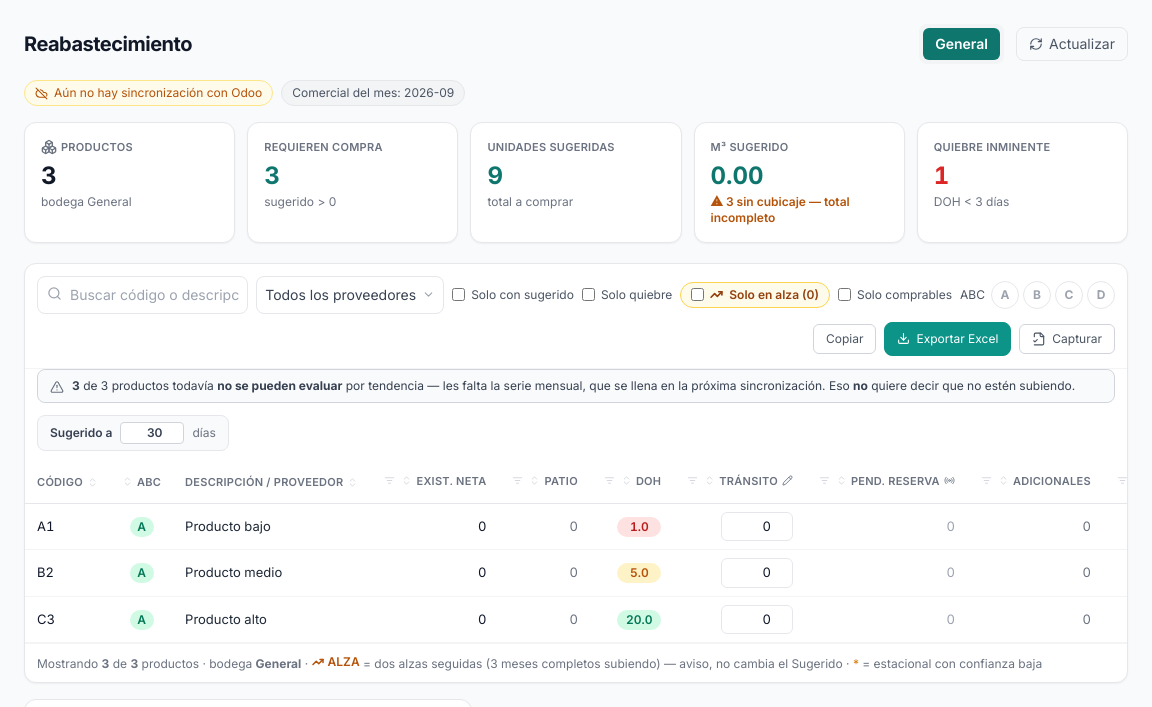
Test: el filtro DOH ≤ 5 deja solo A1 y B2, y limpiar lo devuelve todo — sin disparar el orden
The image size is (1152, 707).
Expected: the text "A1" is shown, [25,503,110,550]
Expected: the text "C3" is shown, [25,596,110,643]
Click the 3rd button titled "Filtrar esta columna" at (609, 481), box [602,473,617,488]
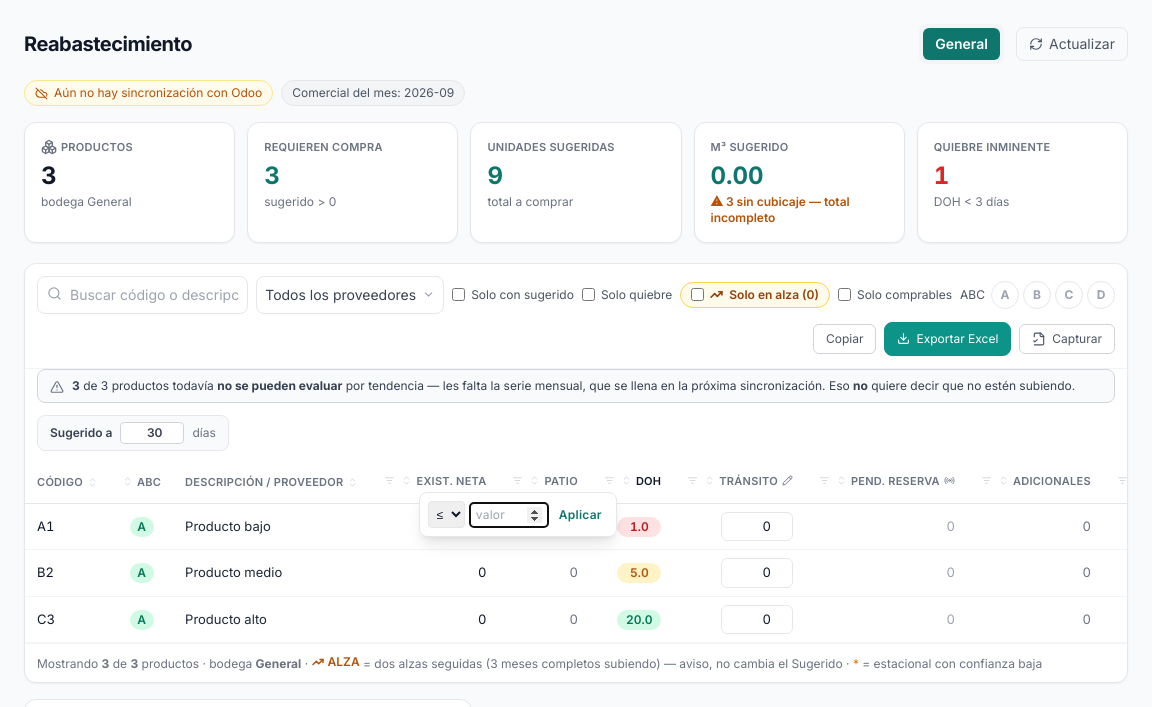
Type "5" into the number field with placeholder "valor" at (509, 515), box [469,502,549,528]
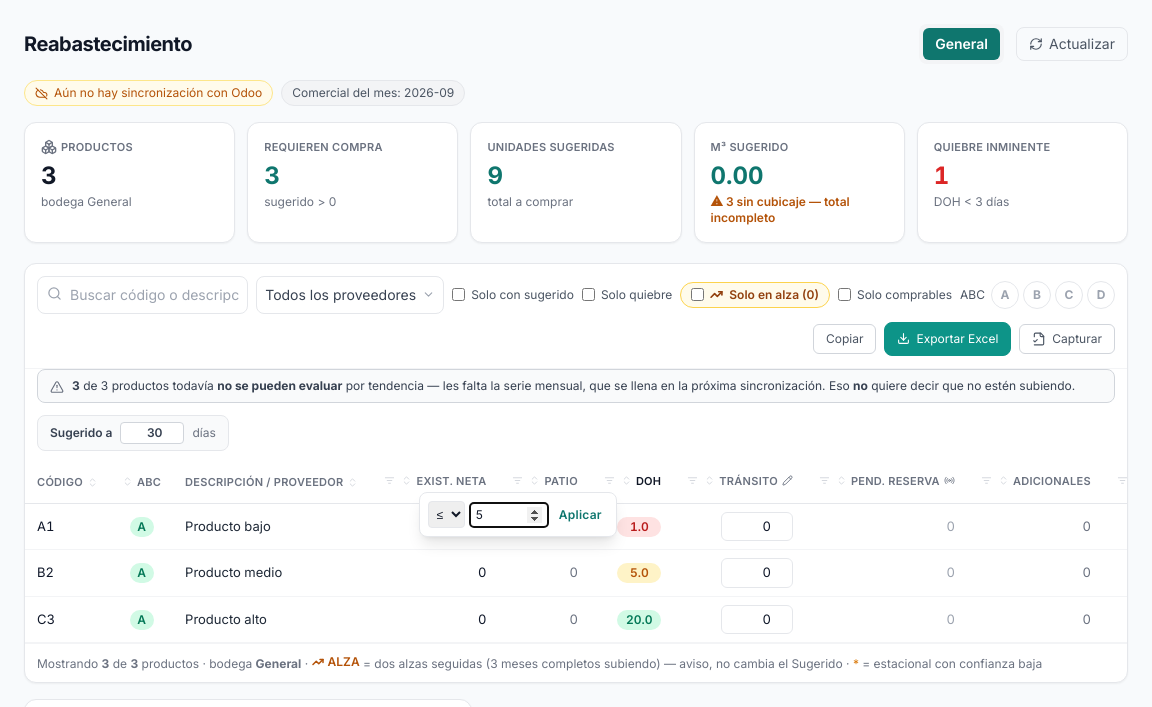
Click the button "Aplicar" at (580, 515), box [553,503,608,527]
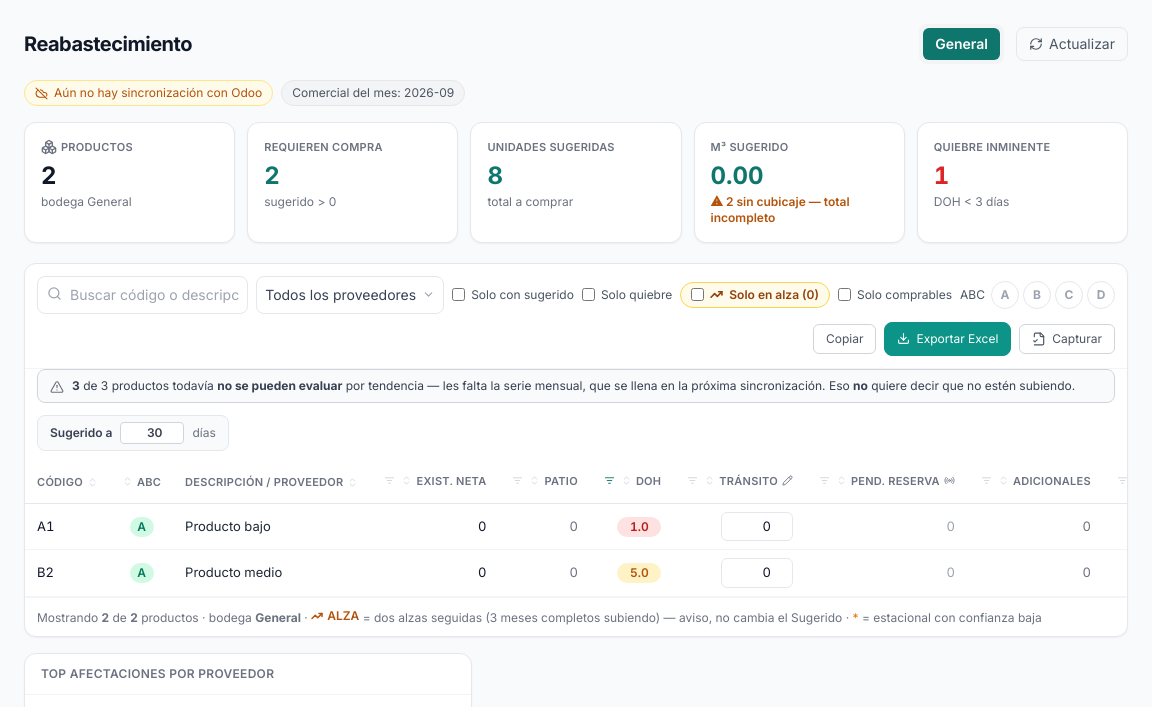
Expected: the text "A1" is shown, [25,503,110,550]
Expected: the text "C3" is gone
// Reabrir y limpiar
Click the button titled "Filtrar esta columna" at (609, 481), box [602,473,617,488]
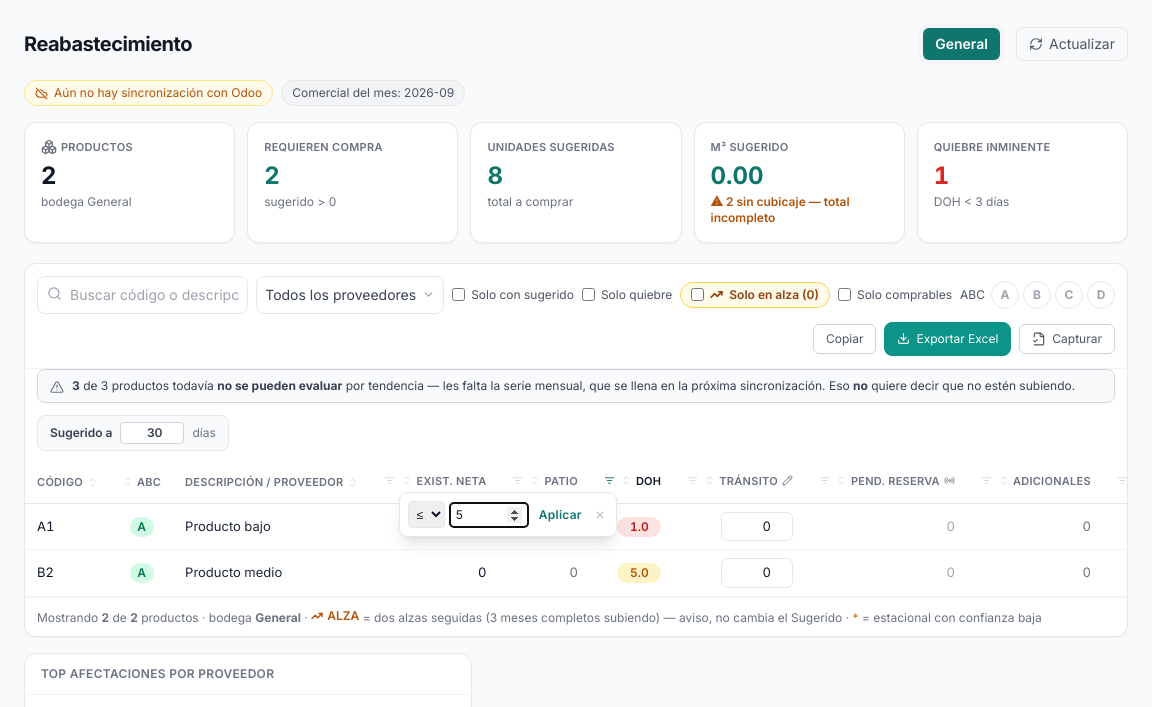
Click the button titled "Quitar filtro" at (600, 515), box [592,509,608,521]
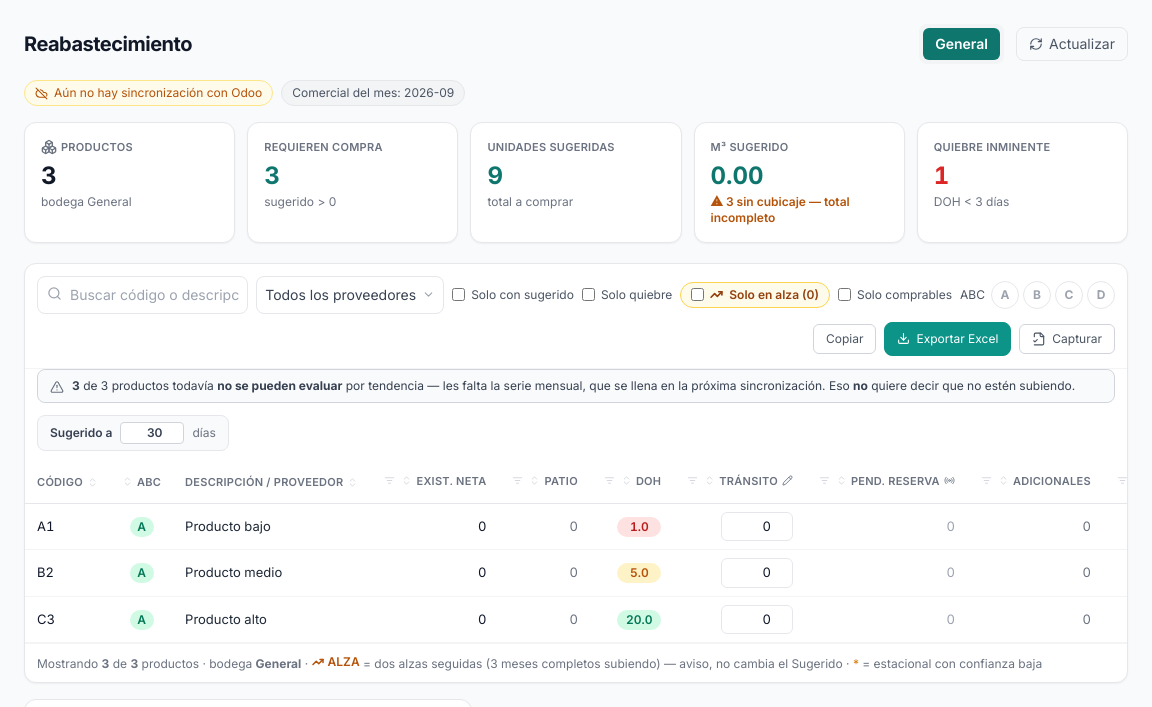
Expected: the text "C3" is shown, [25,596,110,643]
